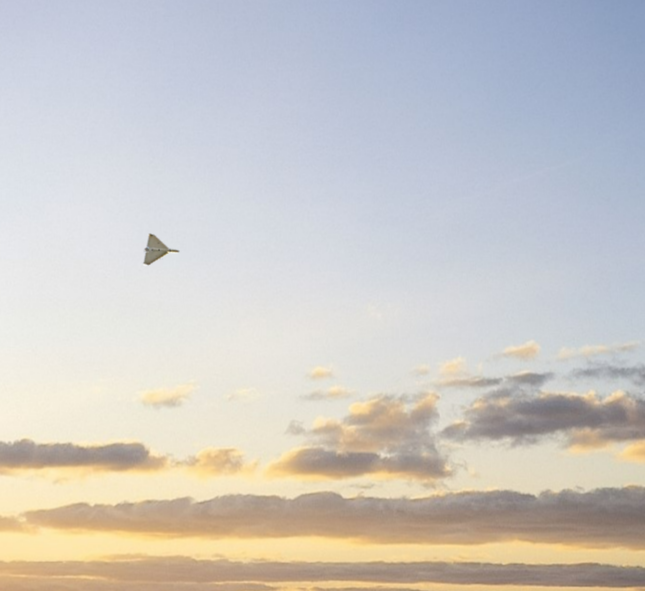military drone: (142, 232, 179, 265)
